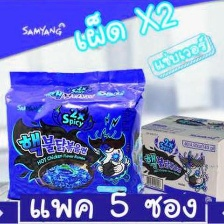snack: (0, 64, 153, 198)
